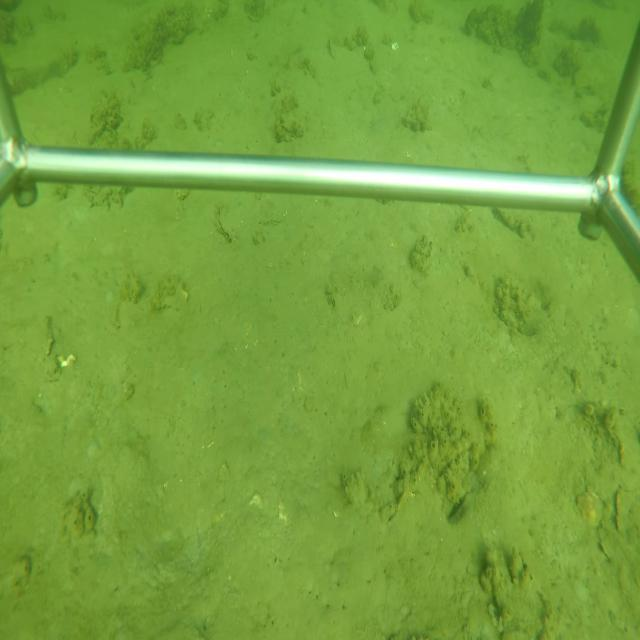Oyster-Closed: (213, 205, 238, 243)
Oyster-Open: (443, 488, 473, 527)
